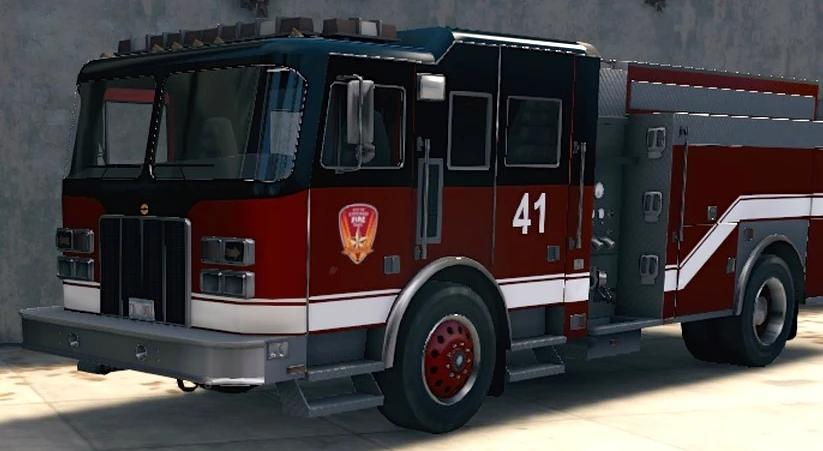Fire-engine: (18, 14, 821, 434)
